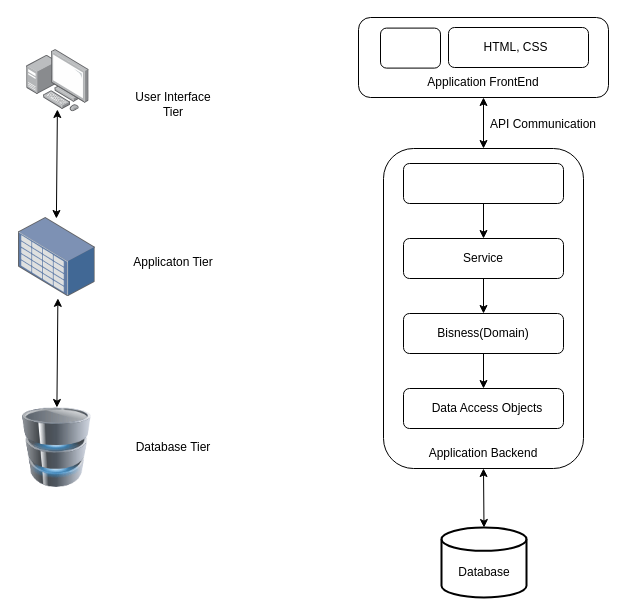
This 627x616 diagram has some shape labels left out. The centre of each missing label's shape, as x and y in pixels:
"Presentation(Controller)" goes at [483,183].
"React" goes at [410,47].
